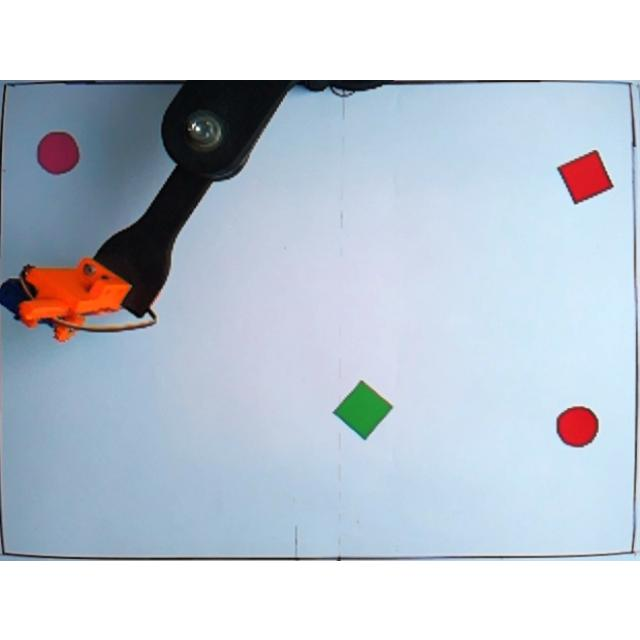greenSquare: (333, 378, 395, 438)
pinkCircle: (36, 130, 80, 173)
redCircle: (555, 402, 601, 450)
redSquare: (558, 147, 616, 205)
